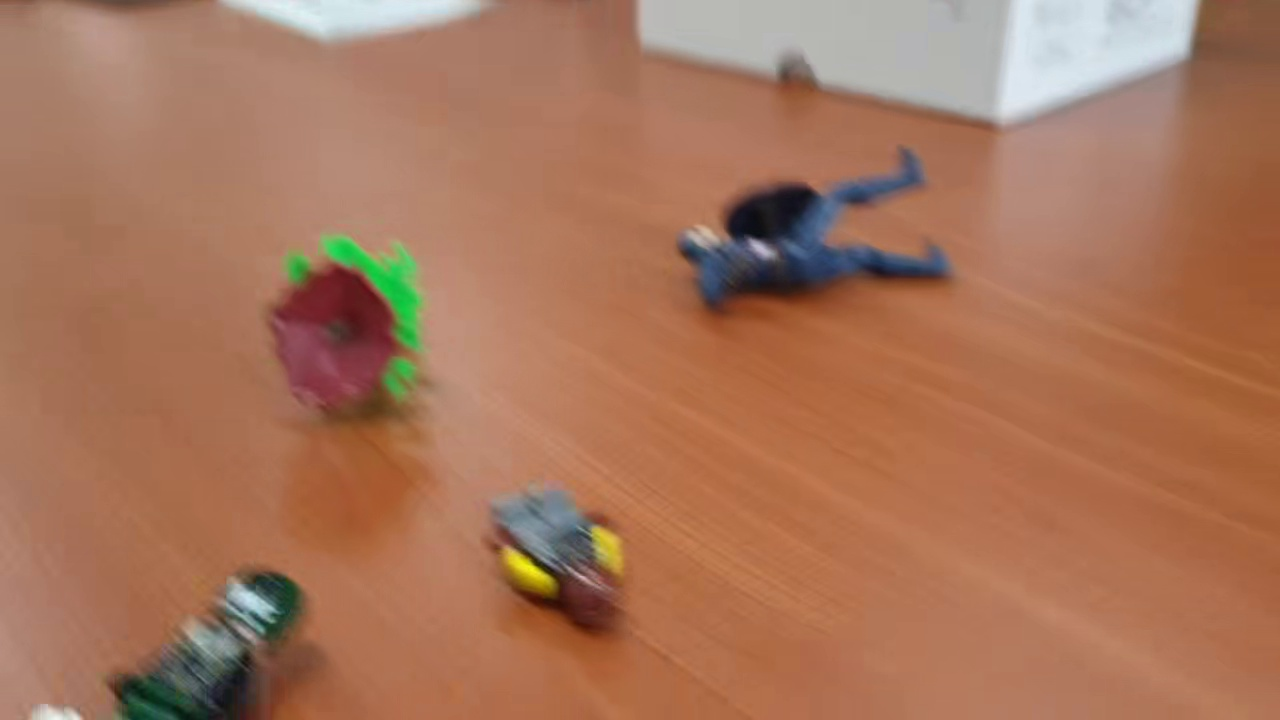people: (675, 138, 954, 318), (115, 562, 321, 720), (481, 476, 630, 635)
web: (260, 227, 429, 418)
